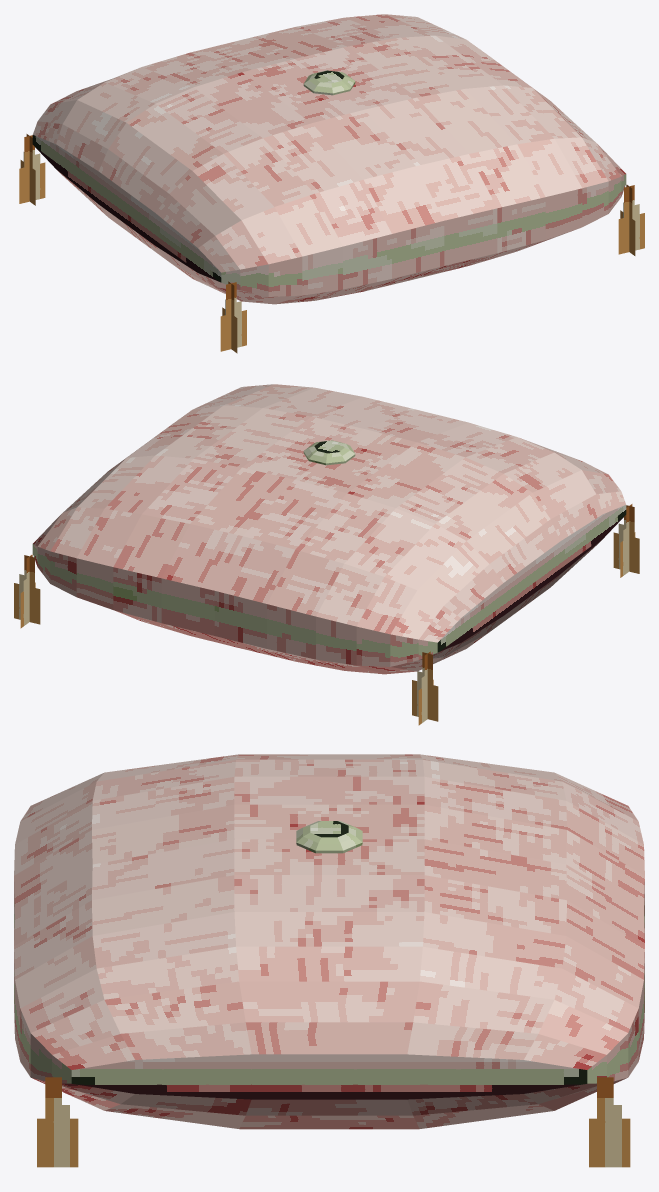
Rendered from cushion.glb.
3 views of the same model, one above another, from view 1: azimuth 30°, elevation 25°; view 2: azimuth 150°, elevation 25°; view 3: azimuth 270°, elevation 25° (orthographic). The views are drawn at different scales.
Visible parts, largest first — view 1: body, tassel1_0, tassel0_0, tassel2_0, button; view 2: body, tassel3_0, tassel2_0, tassel0_0, button, tassel0_1, tassel3_1, tassel2_1; view 3: body, tassel1_1, tassel3_1, button.
Boxes of the visible parts, x1=… form: body: x1=32, y1=14, x2=626, y2=304; tassel1_0: x1=618, y1=185, x2=644, y2=254; tassel0_0: x1=220, y1=282, x2=246, y2=351; tassel2_0: x1=19, y1=135, x2=45, y2=203; button: x1=303, y1=70, x2=355, y2=95; body: x1=32, y1=384, x2=626, y2=674; tassel3_0: x1=14, y1=555, x2=40, y2=624; tassel2_0: x1=412, y1=652, x2=438, y2=721; tassel0_0: x1=613, y1=505, x2=639, y2=573; button: x1=303, y1=440, x2=355, y2=465; tassel0_1: x1=620, y1=504, x2=635, y2=577; tassel3_1: x1=20, y1=554, x2=35, y2=628; tassel2_1: x1=418, y1=651, x2=433, y2=725; body: x1=14, y1=754, x2=644, y2=1129; tassel1_1: x1=37, y1=1077, x2=78, y2=1167; tassel3_1: x1=589, y1=1077, x2=630, y2=1167; button: x1=296, y1=821, x2=362, y2=853.
Bounding box in the file's own units: 0.7687 × 0.2687 × 0.7147.
2 materials, 2 textured.
